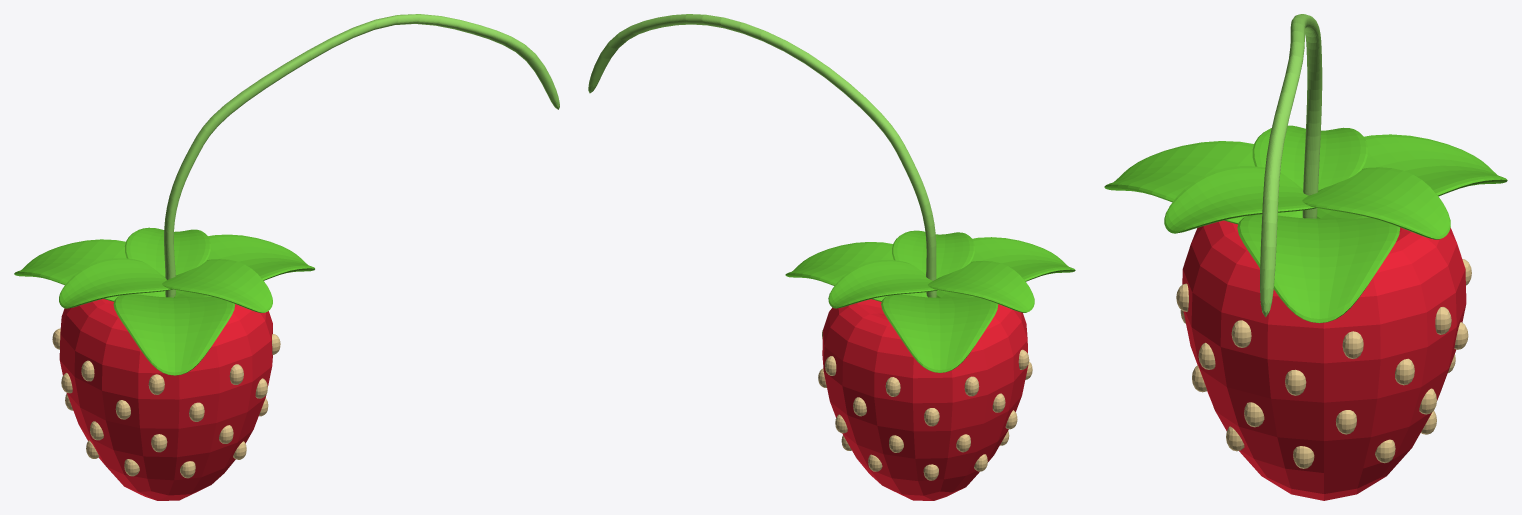
Rendered from strwRedFruit.fbx.
The picture shows the model from 3 angles, left to right: view 1: azimuth 30°, elevation 25°; view 2: azimuth 150°, elevation 25°; view 3: azimuth 270°, elevation 25°; orthographic projection. The views are drawn at different scales.
Parts seen in each view (by area): view 1: Stem.002; view 2: Stem.002; view 3: Stem.002.
Part boxes in pixels (box(x1,y1,x2,y2)): Stem.002: box(14, 14, 559, 500); Stem.002: box(588, 14, 1075, 500); Stem.002: box(1104, 14, 1507, 500).
Bounding box in the file's own units: 190 × 166 × 104.
